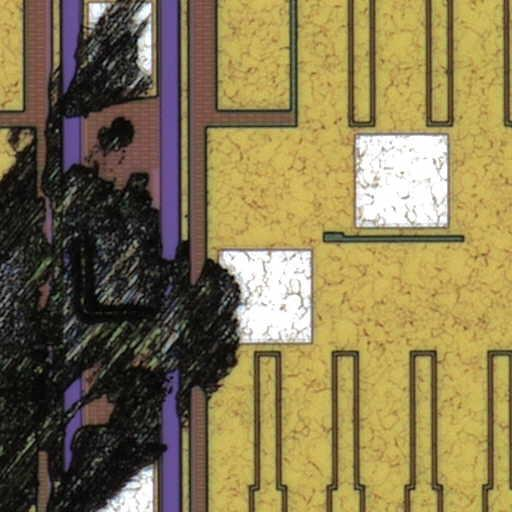SCRATCH: (1, 1, 251, 512)
